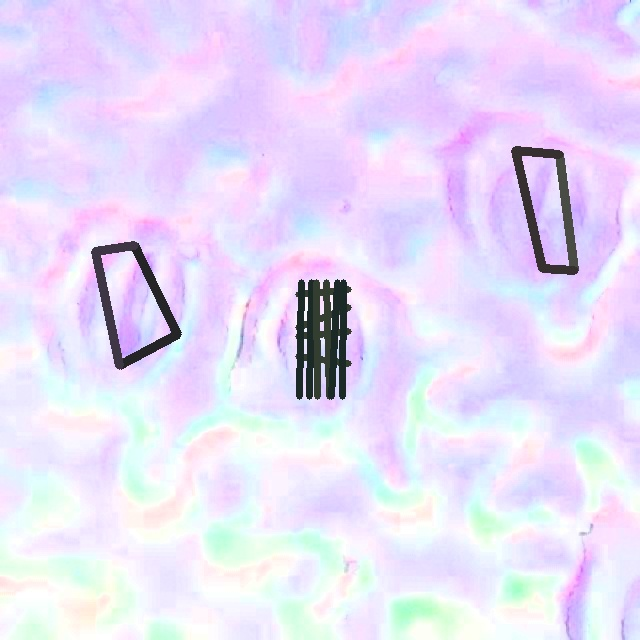close: (296, 279, 350, 398)
open: (91, 241, 181, 369), (511, 150, 578, 272)
